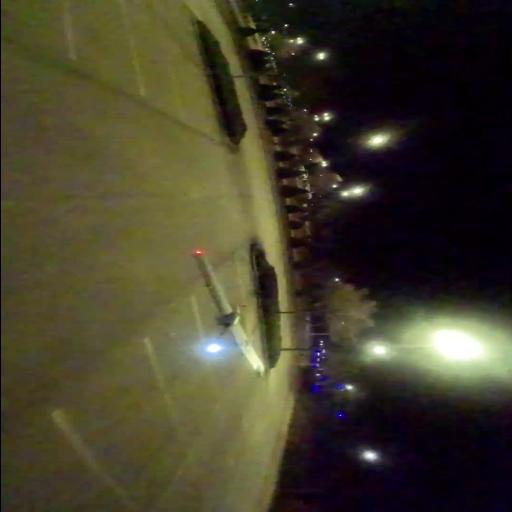uav: (183, 248, 271, 380)
